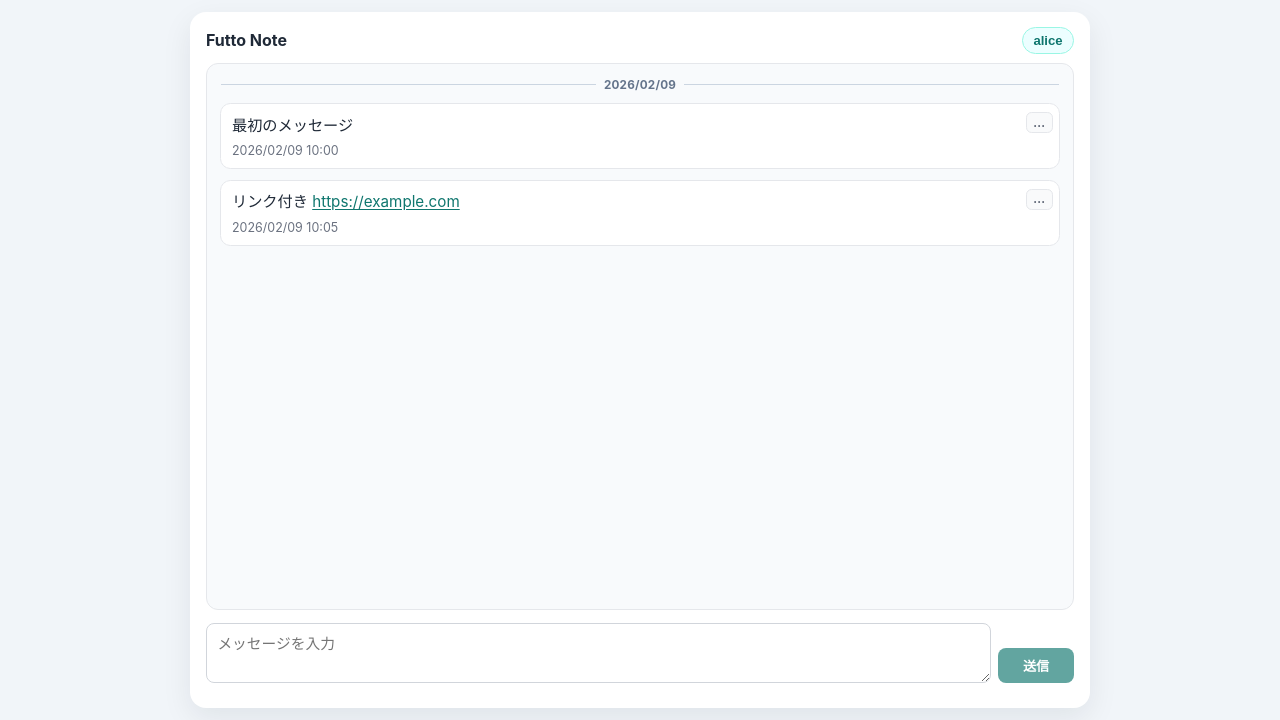
Test: App › 編集開始時にテキストエリアに現在の本文が表示される
Expected: the text "最初のメッセージ" is shown, x1=232 y1=116 x2=353 y2=134
Click the button with test id "message-menu-trigger" in the row of "最初のメッセージ": (1040,123) x1=1026 y1=112 x2=1053 y2=133
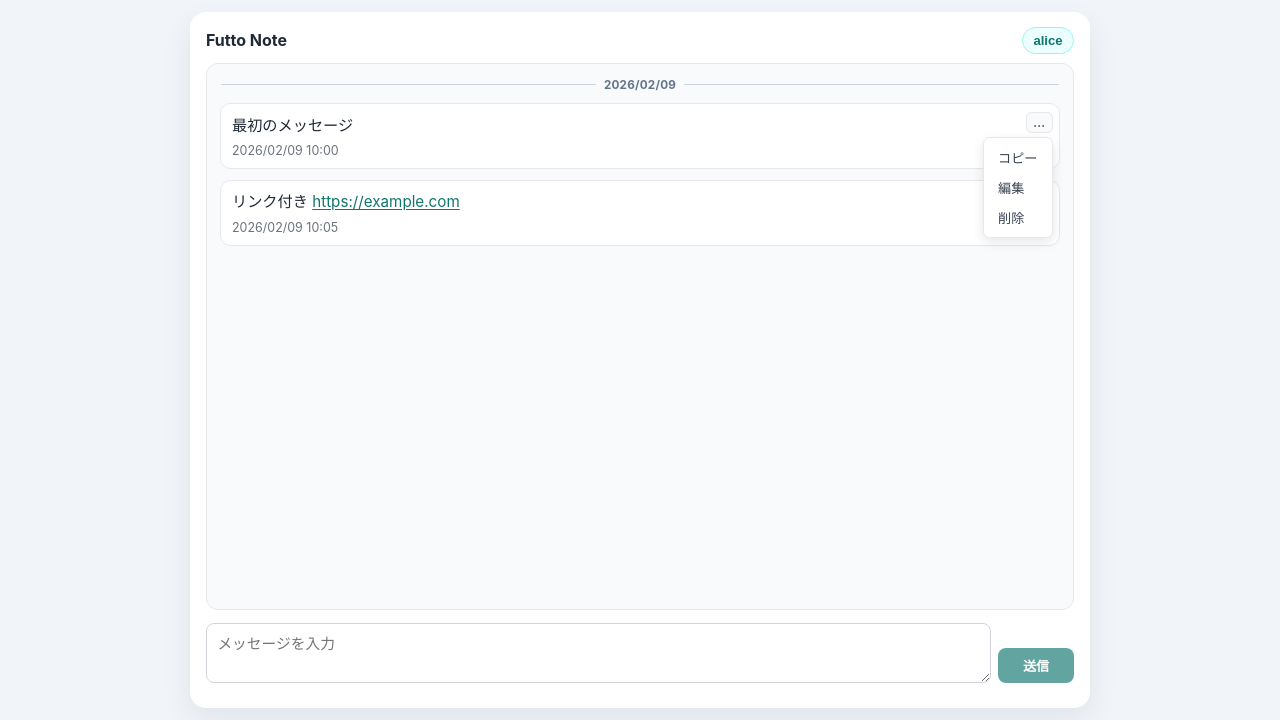
Click the button with test id "message-edit-button": (1018,187) x1=988 y1=172 x2=1048 y2=202
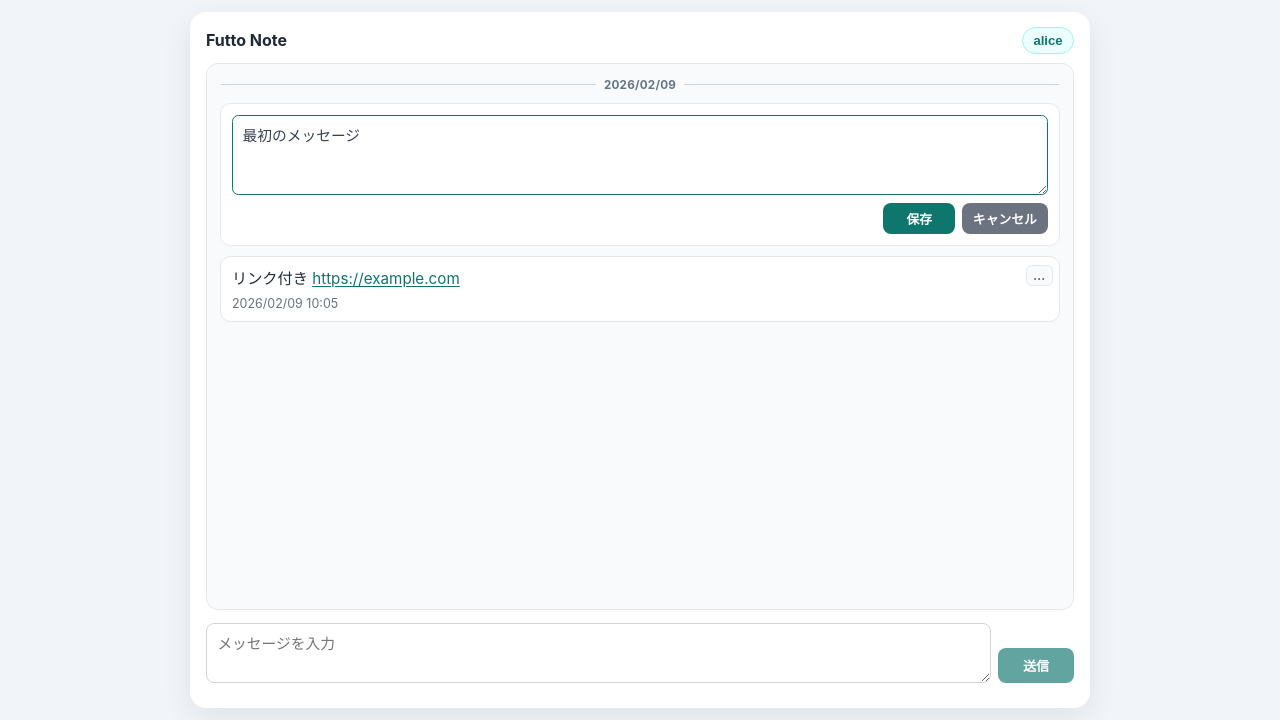
Expected: the text box with test id "edit-textarea" holds "最初のメッセージ", x1=232 y1=114 x2=1048 y2=194
Expected: the button with test id "edit-save-button" is shown, x1=883 y1=202 x2=955 y2=234
Expected: the button with test id "edit-cancel-button" is shown, x1=962 y1=202 x2=1048 y2=234
